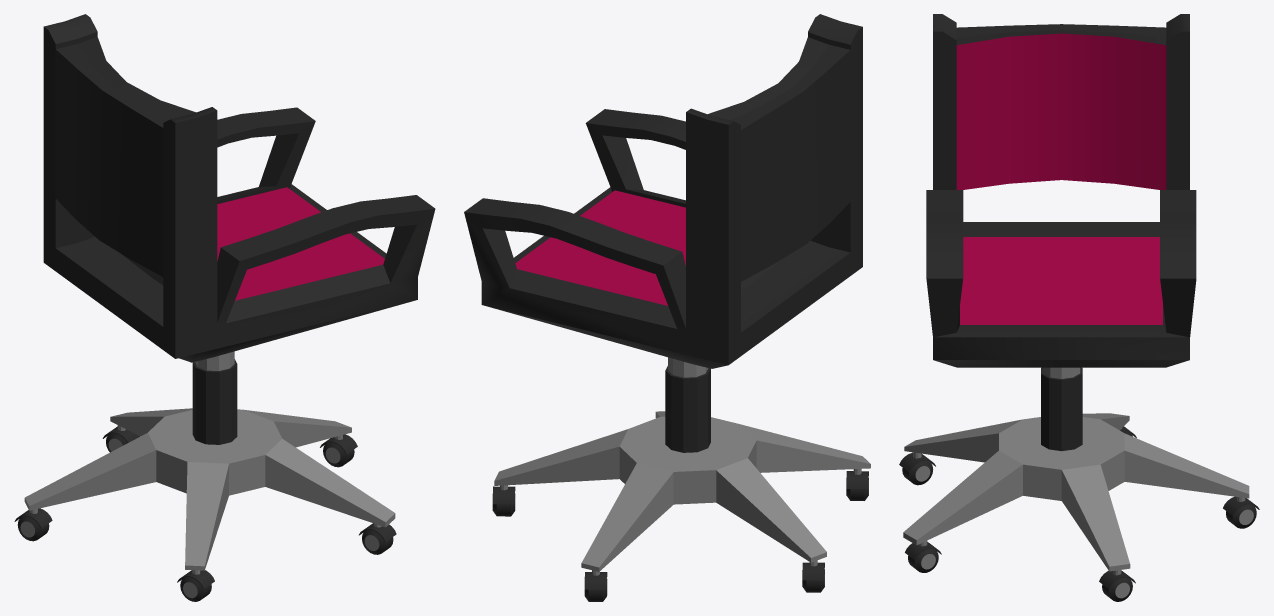
The model's file is 5_Seat_Table_Chair.fbx.
The picture shows the model from 3 angles, left to right: view 1: azimuth 30°, elevation 25°; view 2: azimuth 150°, elevation 25°; view 3: azimuth 270°, elevation 25°; orthographic projection. The views are drawn at different scales.
Visible parts, largest first — view 1: polySurface26; view 2: polySurface26; view 3: polySurface26.
Part boxes in pixels (left/top/right/bottom): polySurface26: left=14, top=14, right=435, bottom=601; polySurface26: left=464, top=14, right=870, bottom=601; polySurface26: left=899, top=14, right=1259, bottom=601.
Bounding box in the file's own units: 119 × 162 × 114.
